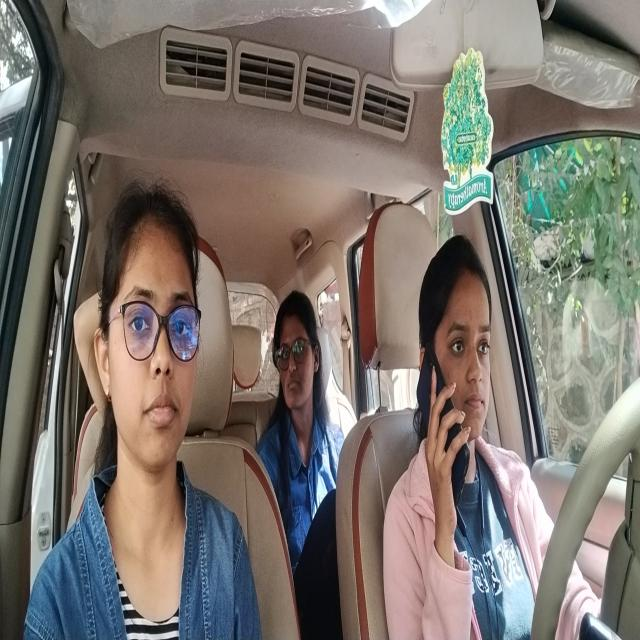mobile: (413, 338, 474, 495)
person: (95, 172, 205, 485), (416, 231, 492, 450), (270, 294, 320, 427)
